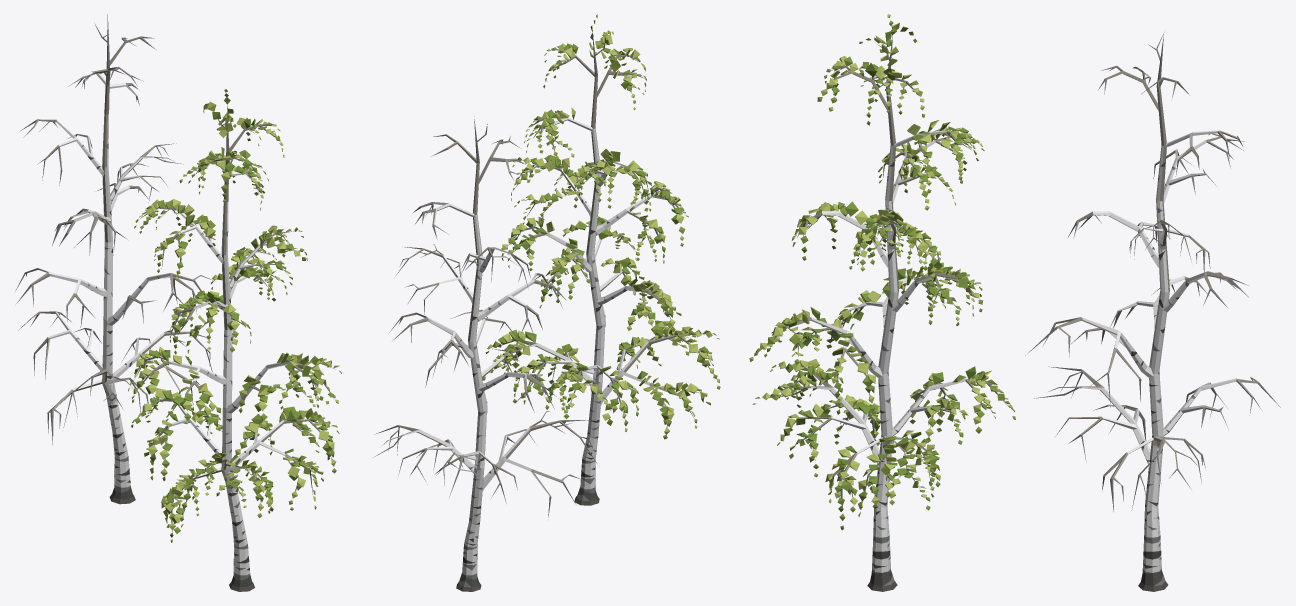
Rendered from birch_tree.glb.
3 views of the same model, side by side, from view 1: azimuth 30°, elevation 25°; view 2: azimuth 150°, elevation 25°; view 3: azimuth 270°, elevation 25° (orthographic). The views are drawn at different scales.
Visible parts, largest first — view 1: Cylinder, Cylinder.001; view 2: Cylinder, Cylinder.001; view 3: Cylinder, Cylinder.001.
Boxes of the visible parts, box(x1,y1,x2,y2) form: Cylinder: box(128, 89, 341, 591); Cylinder.001: box(15, 14, 215, 504); Cylinder: box(482, 14, 720, 505); Cylinder.001: box(373, 116, 598, 591); Cylinder: box(749, 14, 1015, 591); Cylinder.001: box(1025, 32, 1280, 591).
Size of the model in its own units: 12.2 by 29.08 by 24.86.
